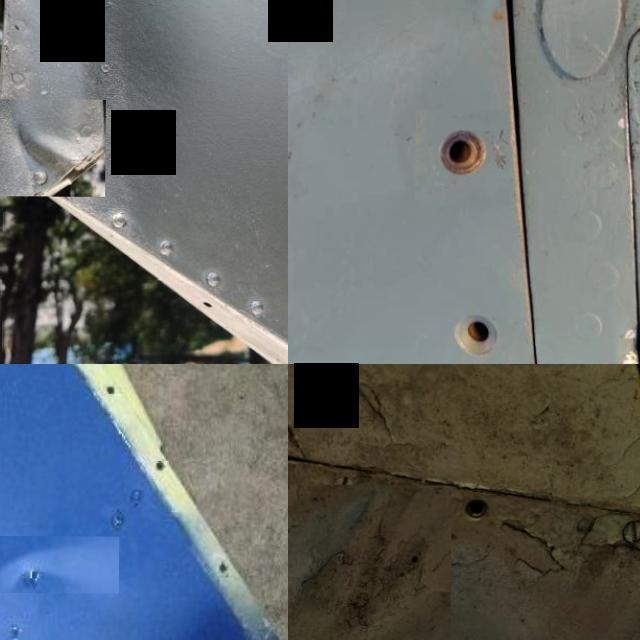Dent: (288, 483, 452, 640), (0, 98, 105, 196), (0, 536, 118, 592)
Missing_Fastener: (415, 108, 510, 205), (430, 296, 517, 364), (448, 482, 502, 533)
